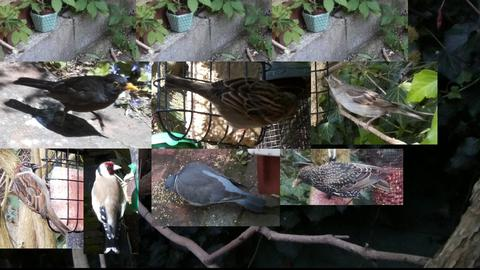blackbird: (12, 74, 139, 136)
goldfinch: (91, 161, 126, 254)
sparrow: (164, 74, 298, 136), (324, 74, 425, 132), (12, 161, 71, 236)
starling: (292, 161, 391, 199)
wood pigeon: (164, 161, 268, 214)
